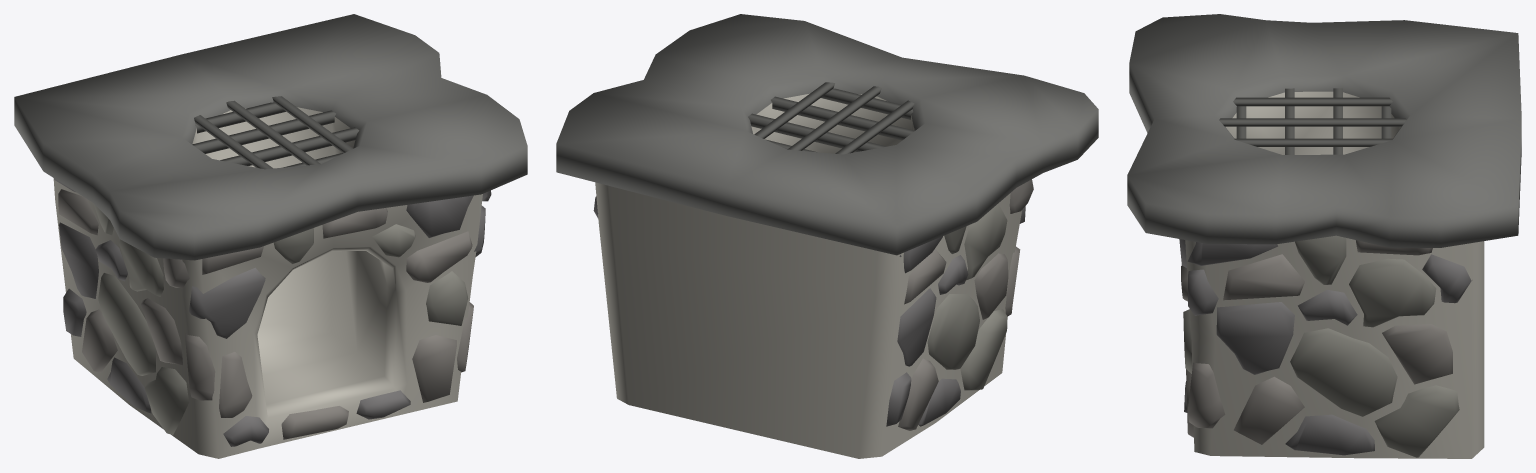
Rendered from rpgpp_ag_stove_01a.fbx.
3 views of the same model, side by side, from view 1: azimuth 30°, elevation 25°; view 2: azimuth 150°, elevation 25°; view 3: azimuth 270°, elevation 25° (orthographic). The views are drawn at different scales.
Parts seen in each view (by area): view 1: rpgpp_ag_stove_01a; view 2: rpgpp_ag_stove_01a; view 3: rpgpp_ag_stove_01a.
Boxes of the visible parts, x1,y1,x2,y2 form: rpgpp_ag_stove_01a: [14, 14, 527, 458]; rpgpp_ag_stove_01a: [556, 14, 1098, 458]; rpgpp_ag_stove_01a: [1127, 14, 1521, 458].
Bounding box in the file's own units: 2.74 × 1.71 × 2.24.
